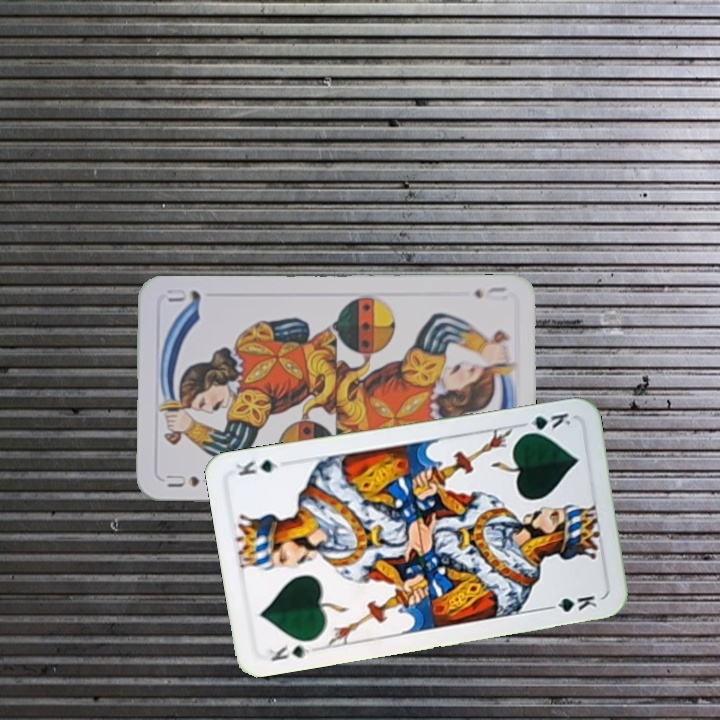GK: (516, 408, 574, 437), (261, 640, 312, 664)
SU: (469, 282, 509, 303), (162, 471, 202, 490)
